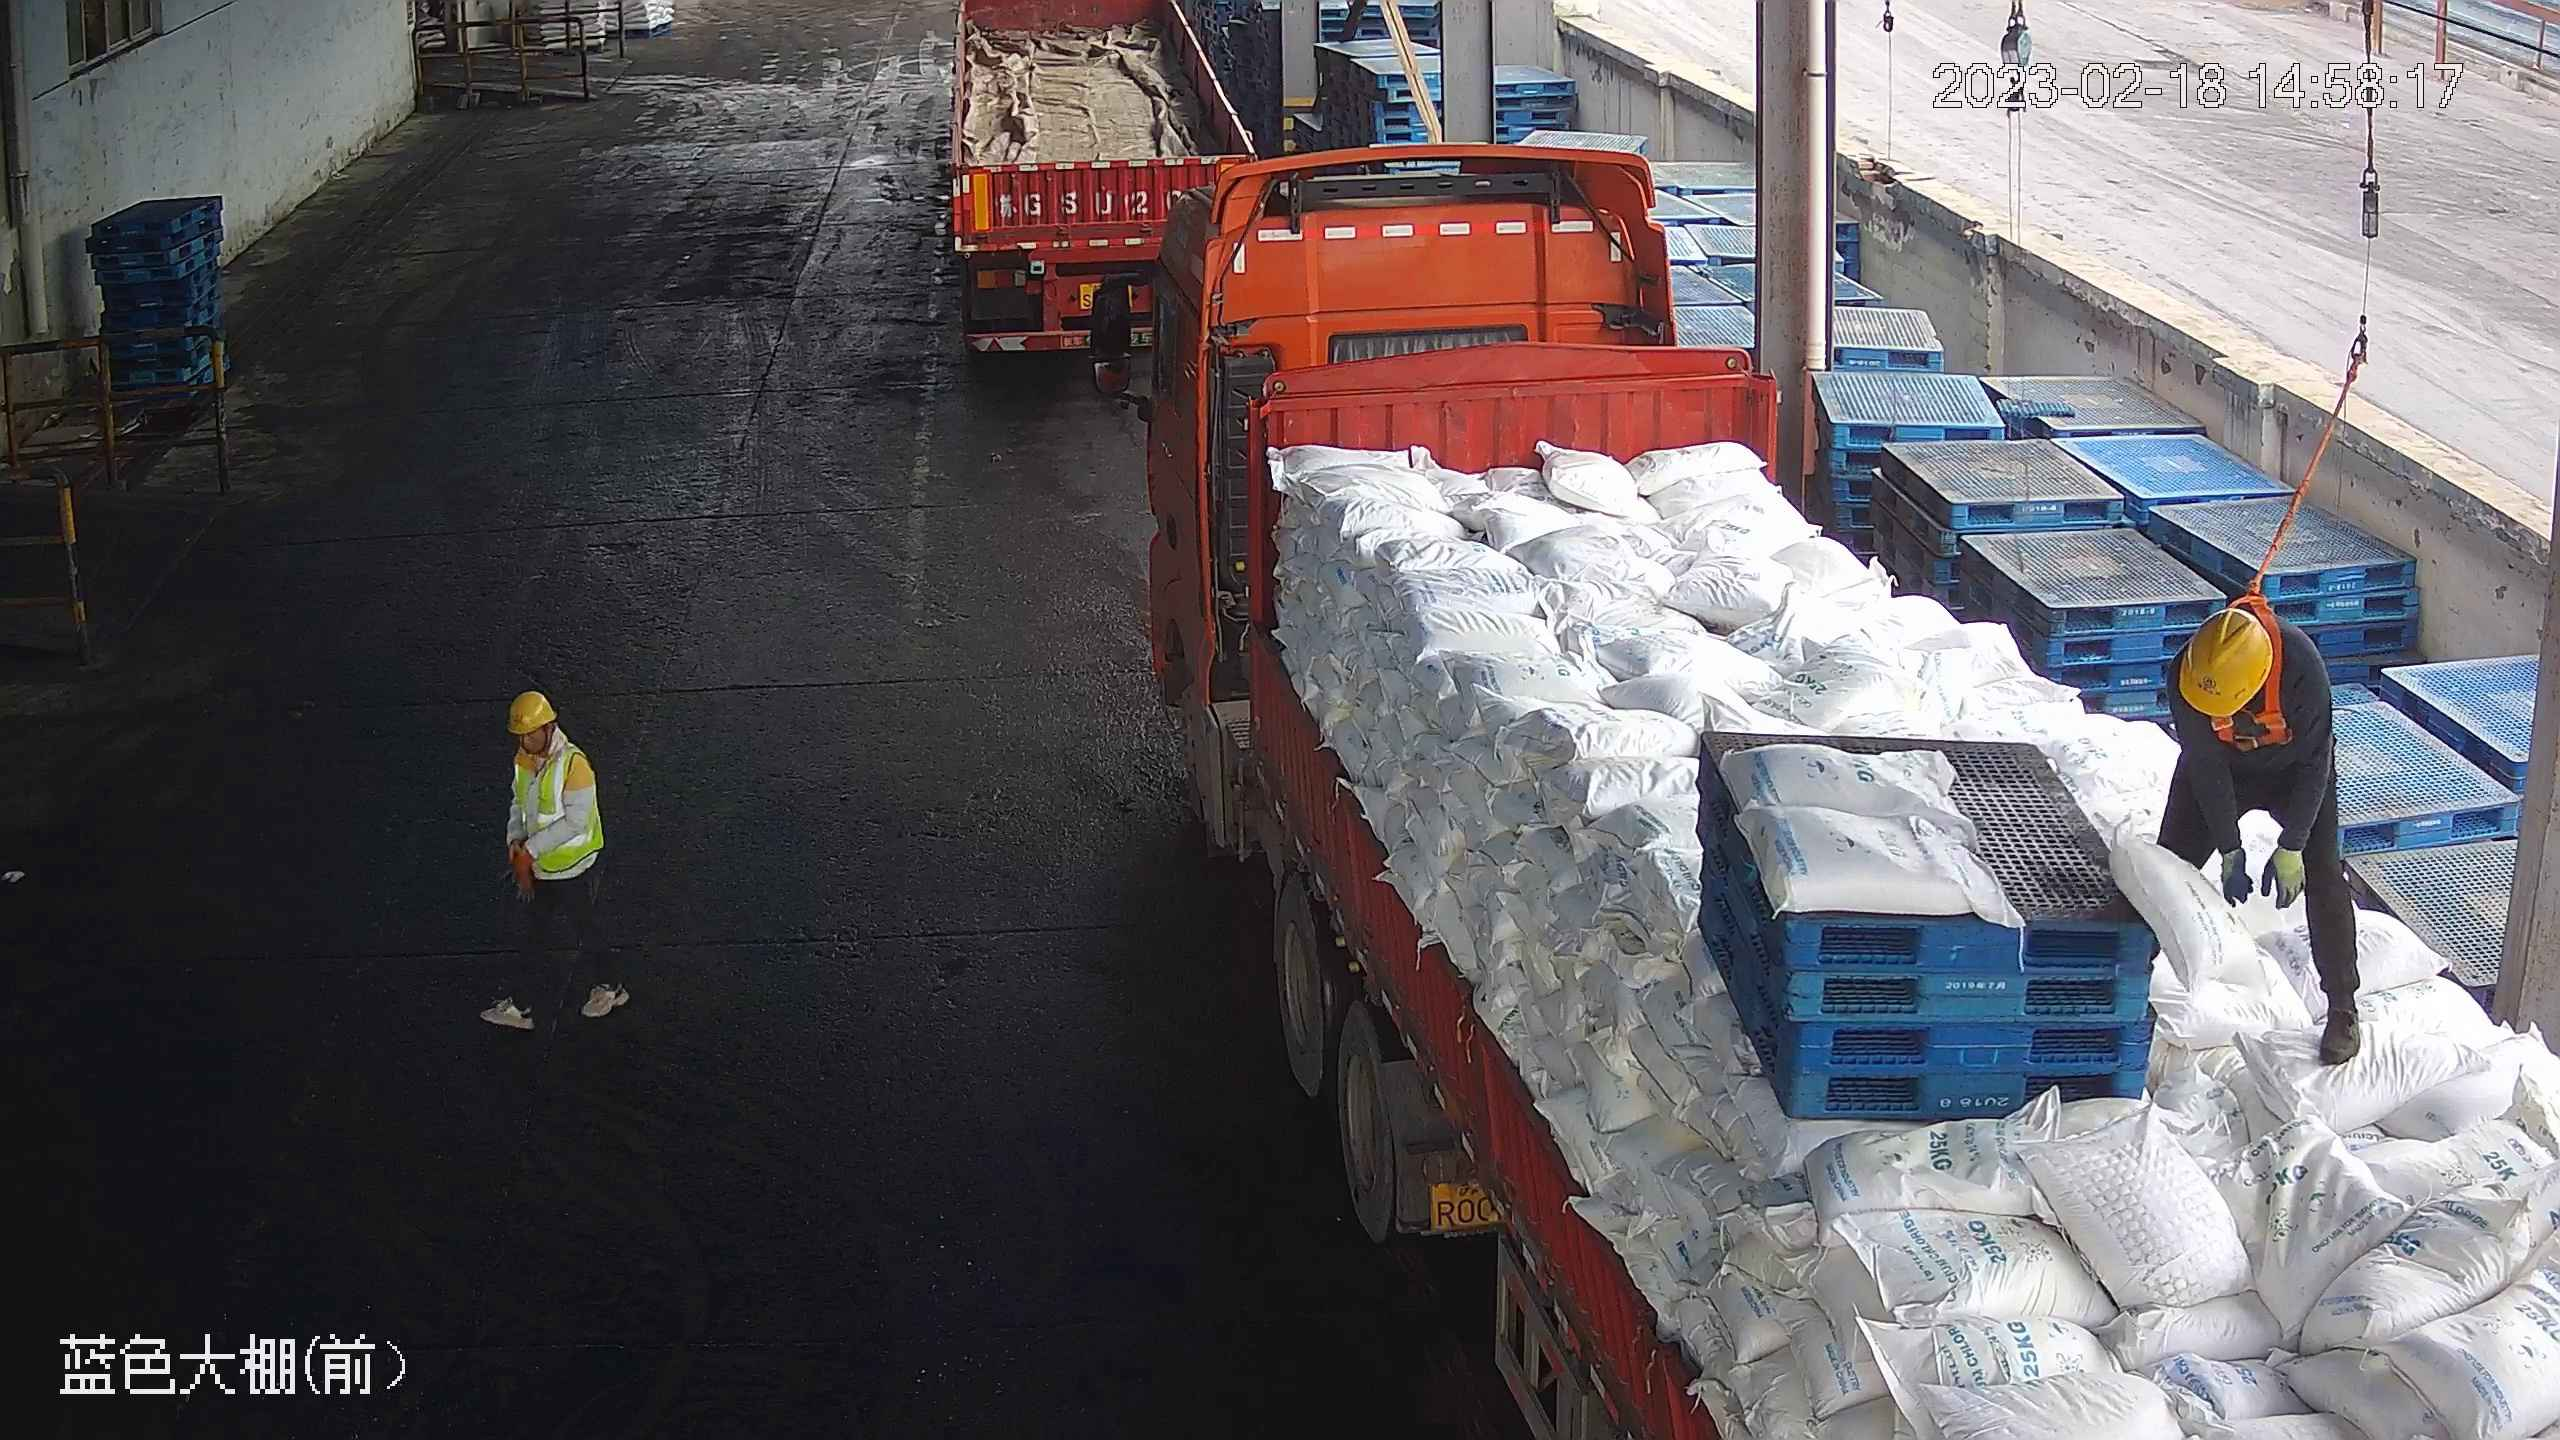belt: (2203, 592, 2298, 750)
head: (2171, 606, 2328, 748), (498, 691, 601, 801)
helmet: (2175, 607, 2276, 715), (501, 690, 556, 731)
people: (2156, 589, 2363, 1073), (479, 687, 629, 1040)
truck: (1121, 155, 2560, 1440), (933, 1, 1268, 364)
